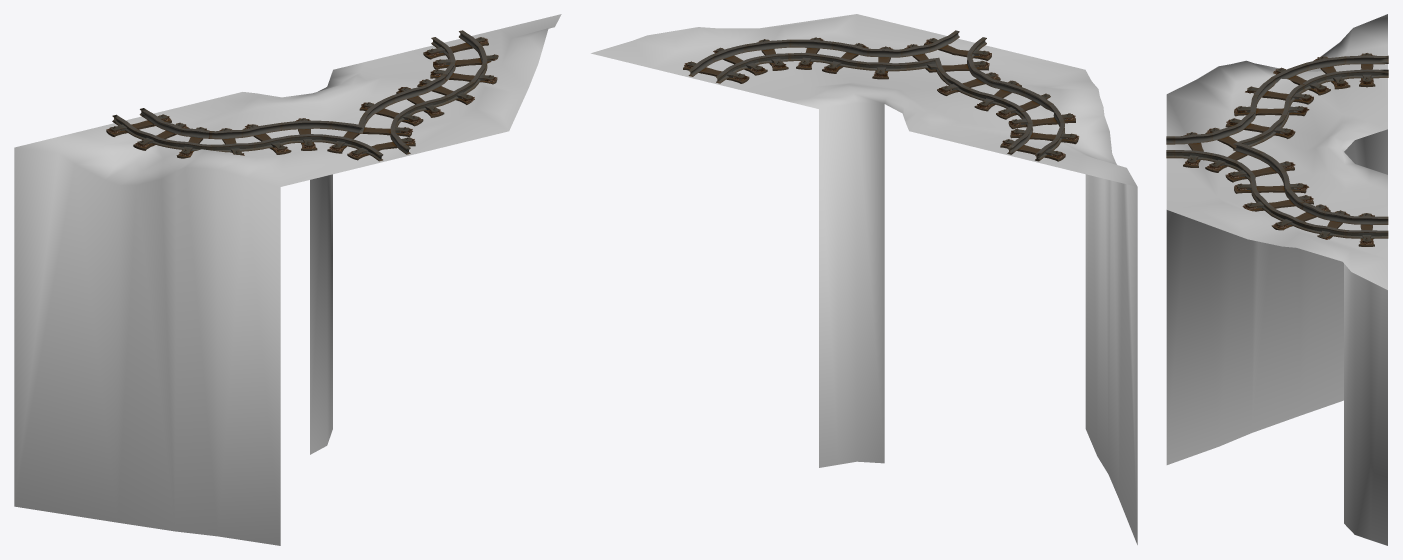
Rendered from f_floor_link_right.fbx.
The picture shows the model from 3 angles, left to right: view 1: azimuth 30°, elevation 25°; view 2: azimuth 150°, elevation 25°; view 3: azimuth 270°, elevation 25°; orthographic projection. The views are drawn at different scales.
Visible parts, largest first — view 1: f_link_left.001; view 2: f_link_left.001; view 3: f_link_left.001.
Part boxes in pixels (left/top/right/bottom): f_link_left.001: left=14, top=14, right=561, bottom=545; f_link_left.001: left=591, top=14, right=1137, bottom=544; f_link_left.001: left=1166, top=14, right=1388, bottom=545.
Bounding box in the file's own units: 23.95 × 15.46 × 8.15.
